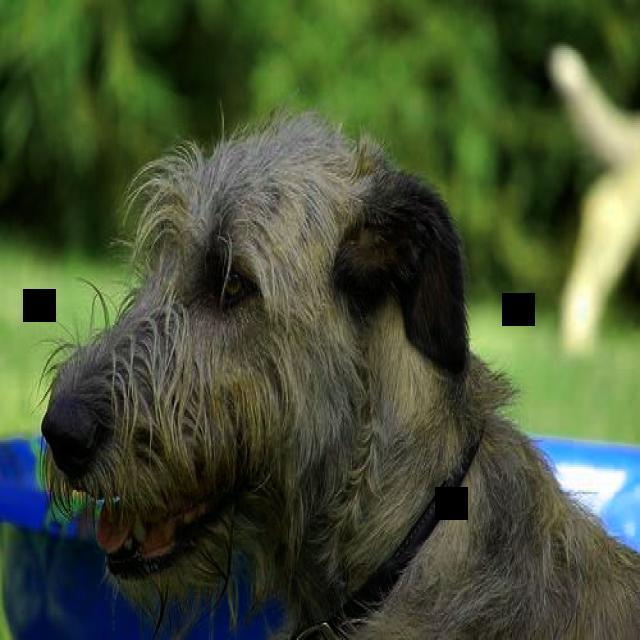adult_dog: (32, 105, 640, 640)
